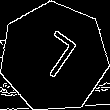L_SW: (27, 28, 81, 86)
